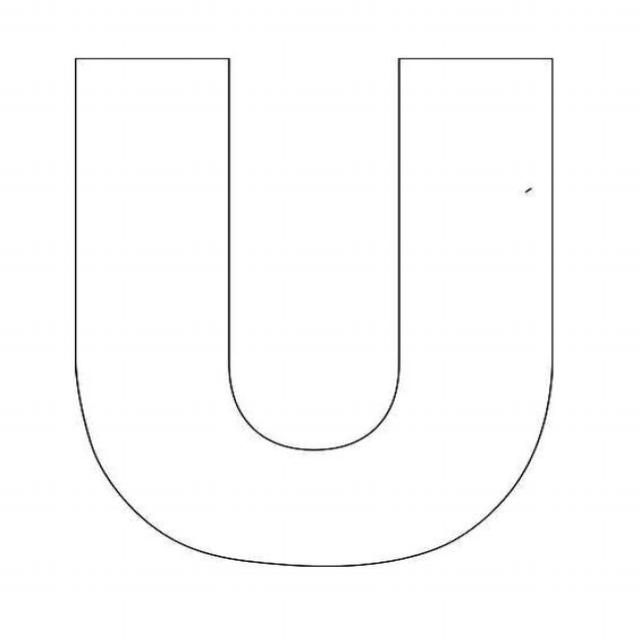U: (13, 26, 594, 604)
